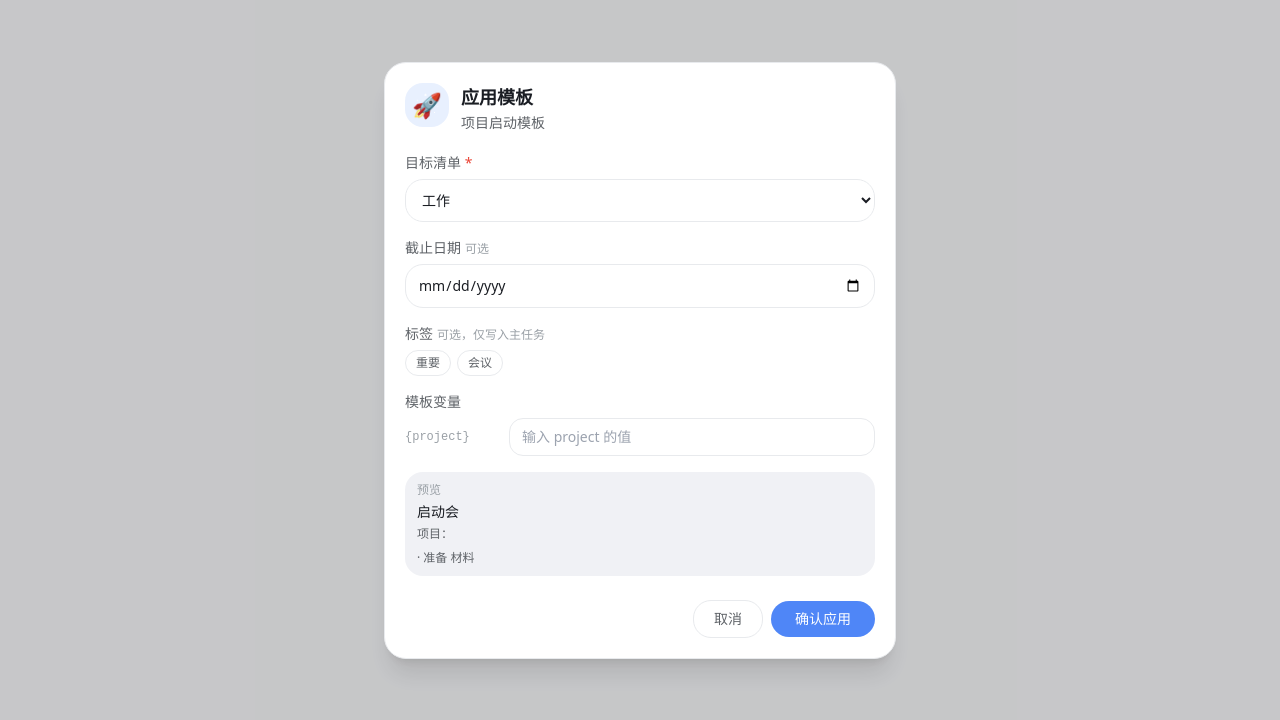
Test case: ApplyTemplateDialog › 变量预览会同步更新标题和子任务
The image size is (1280, 720).
Expected: the text "启动会" is shown, x1=417 y1=502 x2=459 y2=520
Type "Alpha" into the field with placeholder "输入 project 的值" at point(692, 436), box x1=509 y1=418 x2=875 y2=456
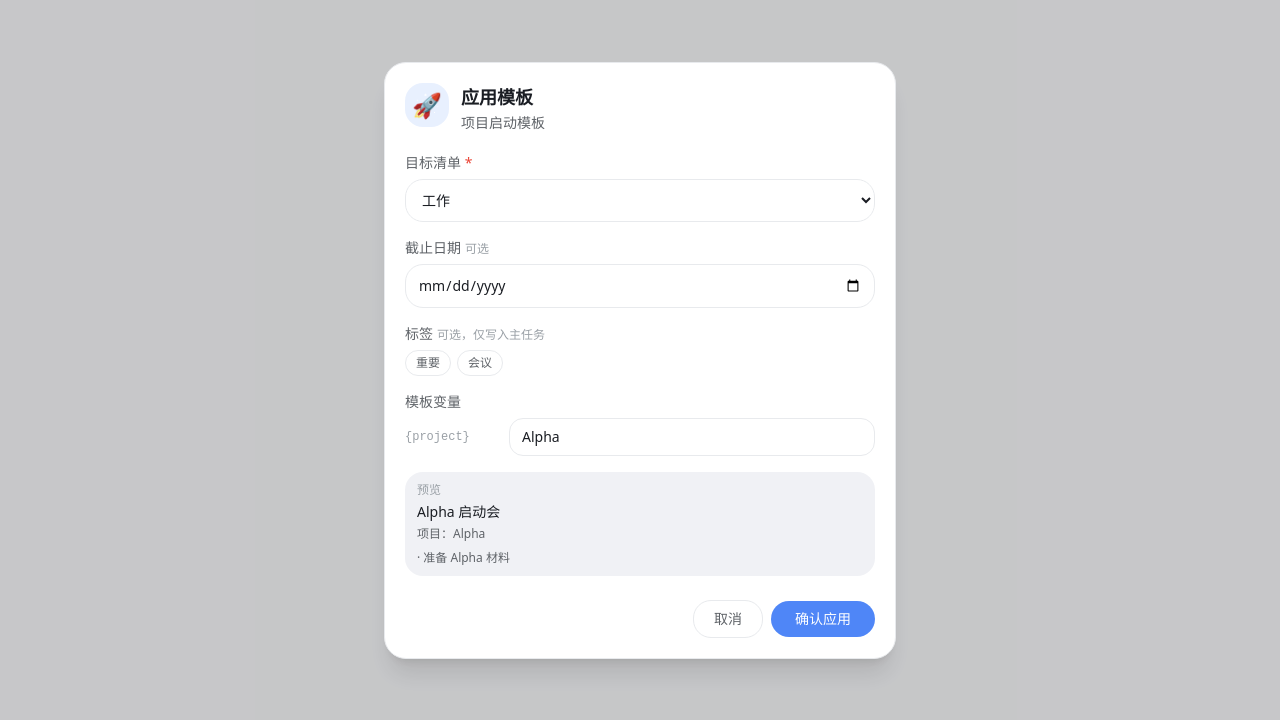
Expected: the text "Alpha 启动会" is shown, x1=417 y1=502 x2=500 y2=520
Expected: the list item "· 准备 Alpha 材料" is shown, x1=417 y1=548 x2=510 y2=566
